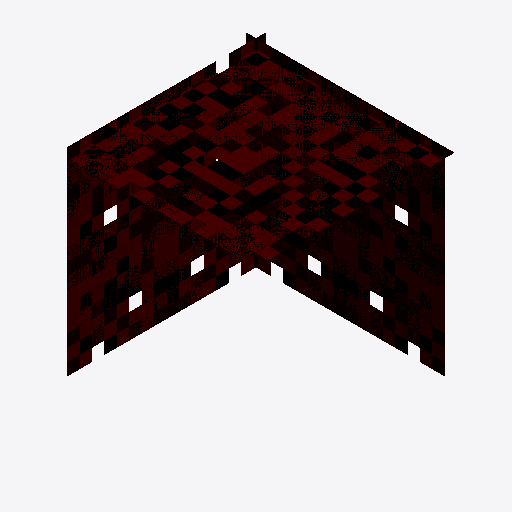
Isometric view (azimuth 45°, elevation 35.3°) of a Minecraft model made of 3 cuboids, textured from the same repository.
Visible parts, largest first — element 1, element 3, element 2.
Part boxes in pixels (bbox=[...]): element 1: bbox=[70, 50, 453, 259]; element 3: bbox=[246, 33, 444, 375]; element 2: bbox=[67, 33, 265, 375].
Bounding box in the file's own units: 16 × 16 × 16.